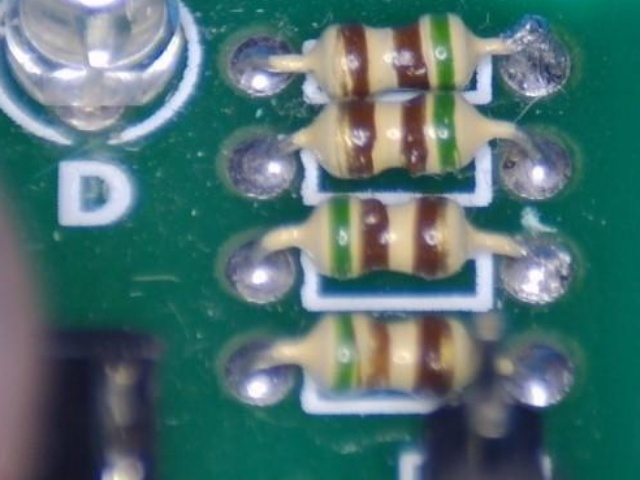pcb_defect: (501, 15, 568, 95)
